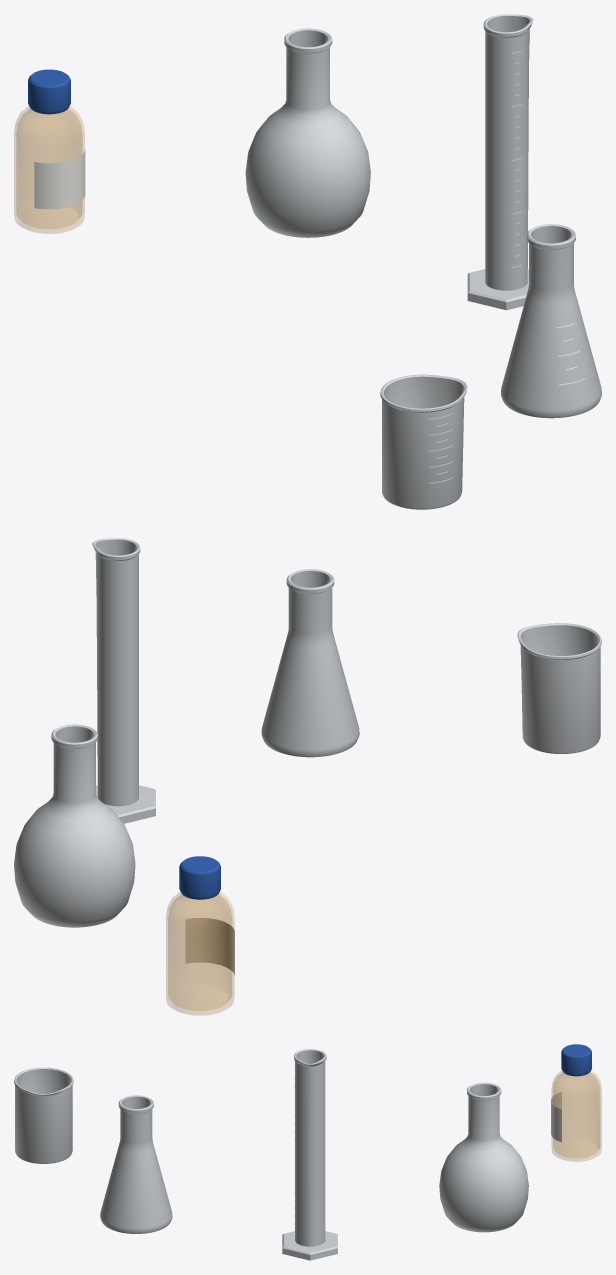
Rendered from vidrarias.glb.
The picture shows the model from 3 angles, top to bottom: view 1: azimuth 30°, elevation 25°; view 2: azimuth 150°, elevation 25°; view 3: azimuth 270°, elevation 25°; orthographic projection. The views are drawn at different scales.
Visible parts, largest first — view 1: Balao_Vidro, Erlenmeyer_Vidro, Proveta_Vidro, Bequer_Vidro, Frasco_Vidro, Frasco_Rotulo, Frasco_Tampa, Proveta_Base; view 2: Balao_Vidro, Erlenmeyer_Vidro, Proveta_Vidro, Bequer_Vidro, Frasco_Vidro, Frasco_Rotulo, Frasco_Tampa, Proveta_Base; view 3: Balao_Vidro, Erlenmeyer_Vidro, Proveta_Vidro, Bequer_Vidro, Frasco_Vidro, Proveta_Base, Frasco_Tampa, Frasco_Rotulo.
Part boxes in pixels (left/top/right/bottom): Balao_Vidro: left=245, top=28, right=370, bottom=237; Erlenmeyer_Vidro: left=501, top=224, right=601, bottom=418; Proveta_Vidro: left=483, top=14, right=533, bottom=290; Bequer_Vidro: left=380, top=374, right=467, bottom=509; Frasco_Vidro: left=14, top=106, right=84, bottom=233; Frasco_Rotulo: left=34, top=150, right=85, bottom=209; Frasco_Tampa: left=28, top=69, right=70, bottom=114; Proveta_Base: left=467, top=269, right=528, bottom=310; Balao_Vidro: left=14, top=724, right=135, bottom=927; Erlenmeyer_Vidro: left=261, top=569, right=359, bottom=757; Proveta_Vidro: left=92, top=538, right=140, bottom=806; Bequer_Vidro: left=517, top=623, right=601, bottom=753; Frasco_Vidro: left=166, top=892, right=234, bottom=1015; Frasco_Rotulo: left=185, top=918, right=234, bottom=975; Frasco_Tampa: left=179, top=856, right=220, bottom=899; Proveta_Base: left=96, top=785, right=155, bottom=823; Balao_Vidro: left=439, top=1082, right=528, bottom=1232; Erlenmeyer_Vidro: left=100, top=1095, right=172, bottom=1233; Proveta_Vidro: left=294, top=1049, right=326, bottom=1246; Bequer_Vidro: left=14, top=1067, right=73, bottom=1163; Frasco_Vidro: left=551, top=1071, right=601, bottom=1161; Proveta_Base: left=282, top=1231, right=337, bottom=1260; Frasco_Tampa: left=561, top=1044, right=591, bottom=1076; Frasco_Rotulo: left=551, top=1092, right=561, bottom=1142.
Size of the model in its own units: 0.3377 by 0.2502 by 0.6956.
